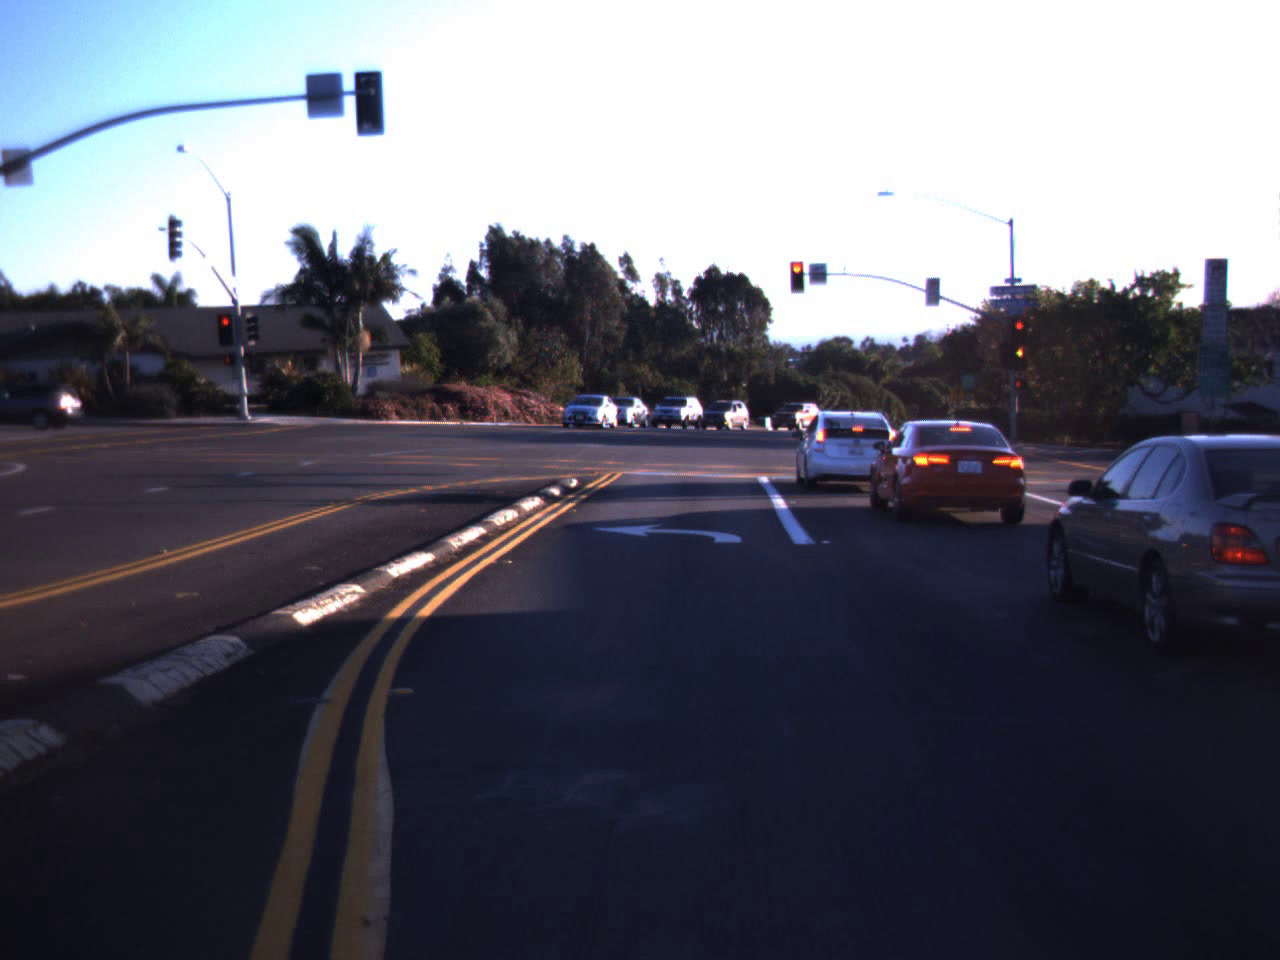stop: (784, 257, 811, 297), (1012, 320, 1027, 342), (220, 316, 232, 338)
